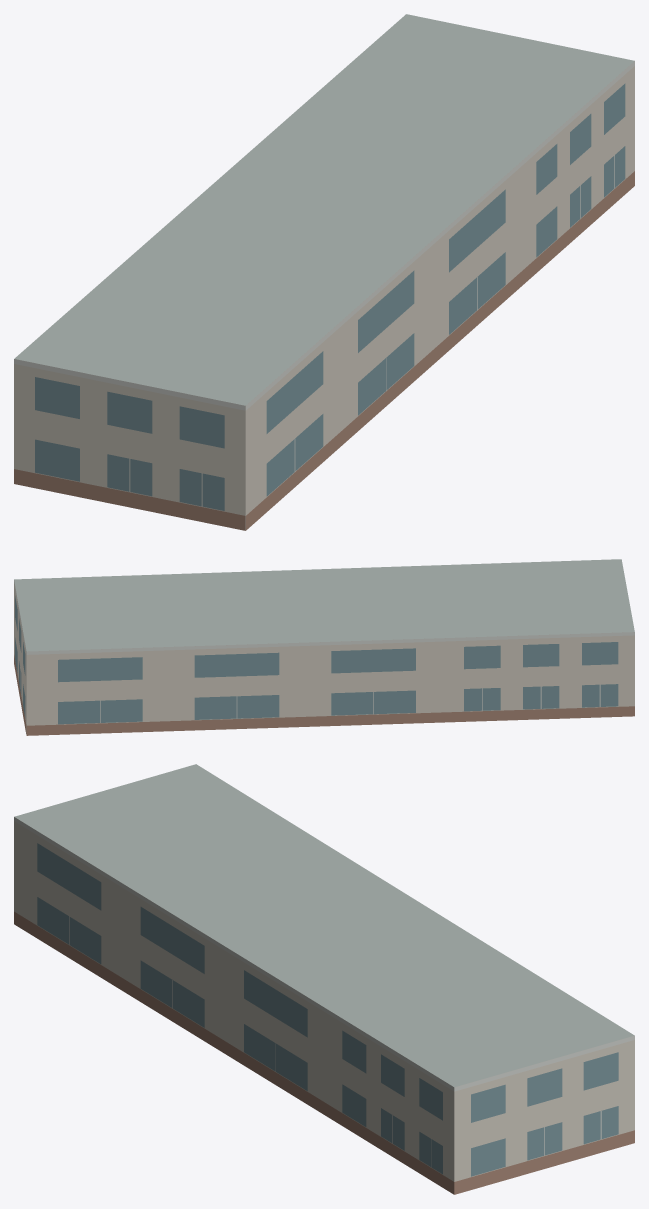
File: survey-upis-32929307.glb
3 renders of one model, top to bottom at view 1: azimuth 30°, elevation 25°; view 2: azimuth 150°, elevation 25°; view 3: azimuth 270°, elevation 25°, orthographic. The views are drawn at different scales.
Parts seen in each view (by area): view 1: survey-upis-32929307.tmp; view 2: survey-upis-32929307.tmp; view 3: survey-upis-32929307.tmp.
Part boxes in pixels (x1,y1,x2,y2): survey-upis-32929307.tmp: (14, 14, 634, 530); survey-upis-32929307.tmp: (14, 559, 634, 735); survey-upis-32929307.tmp: (14, 764, 634, 1194).
Bounding box in the file's own units: 39.36 × 6.1 × 31.94.
